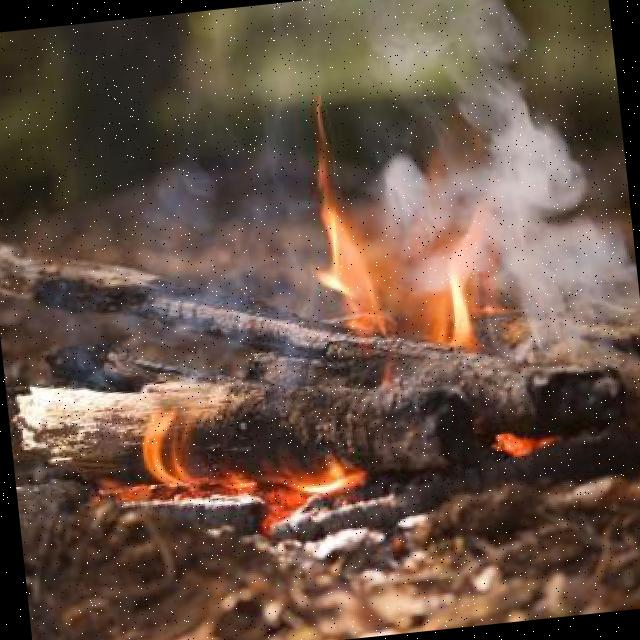fire: (82, 400, 426, 538), (276, 98, 414, 344), (421, 184, 528, 366)
